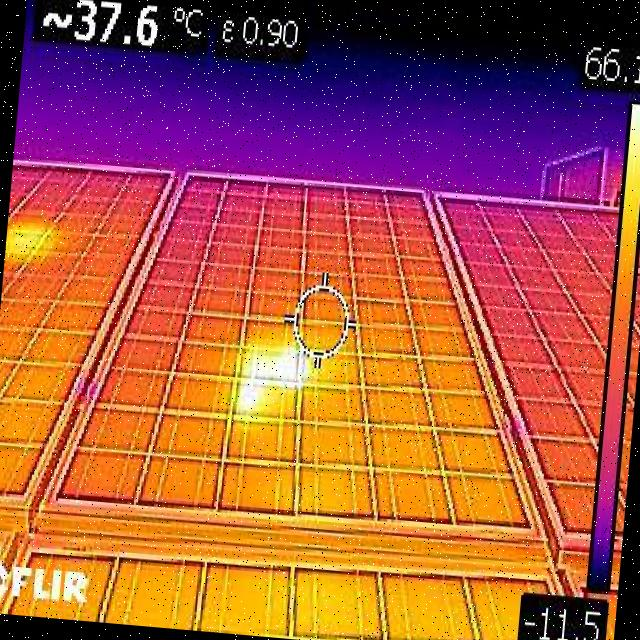Hotspot: (237, 382, 295, 422), (5, 223, 58, 259), (237, 350, 294, 382)
